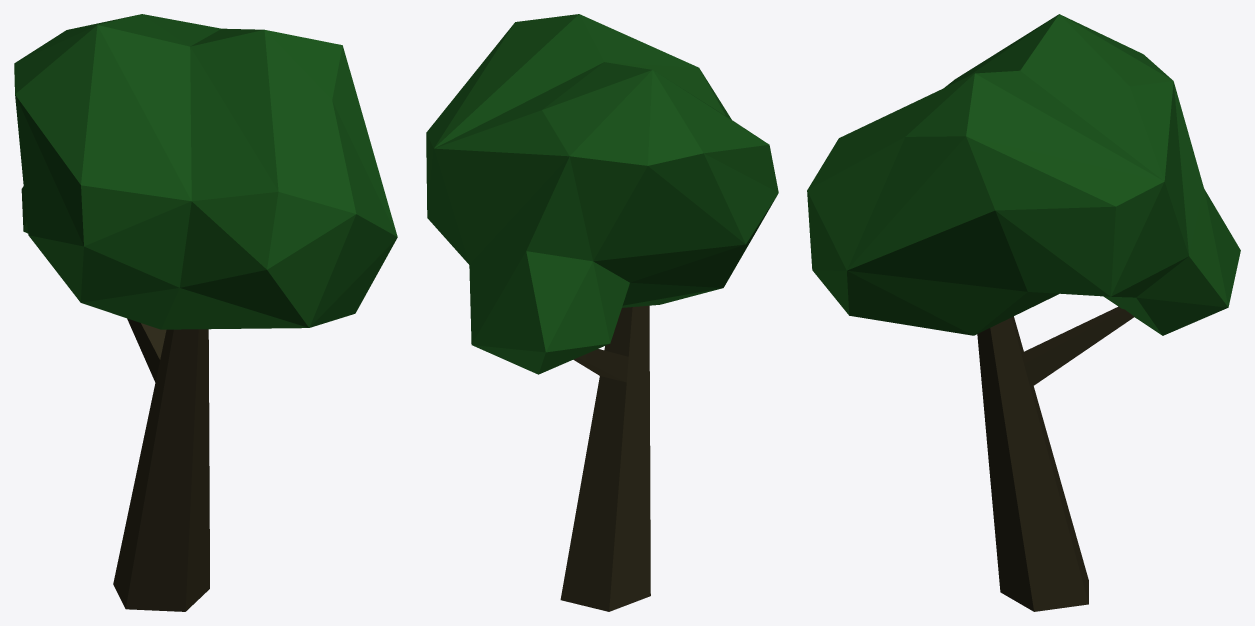
File: Tree3.fbx
3 renders of one model, left to right at view 1: azimuth 30°, elevation 25°; view 2: azimuth 150°, elevation 25°; view 3: azimuth 270°, elevation 25°, orthographic. The views are drawn at different scales.
Parts seen in each view (by area): view 1: Tree3; view 2: Tree3; view 3: Tree3.
Part boxes in pixels (x1,y1,x2,y2): Tree3: (14,14,397,611); Tree3: (426,14,778,611); Tree3: (807,14,1240,611).
Size of the model in its own units: 3.48 by 6.36 by 4.53.
